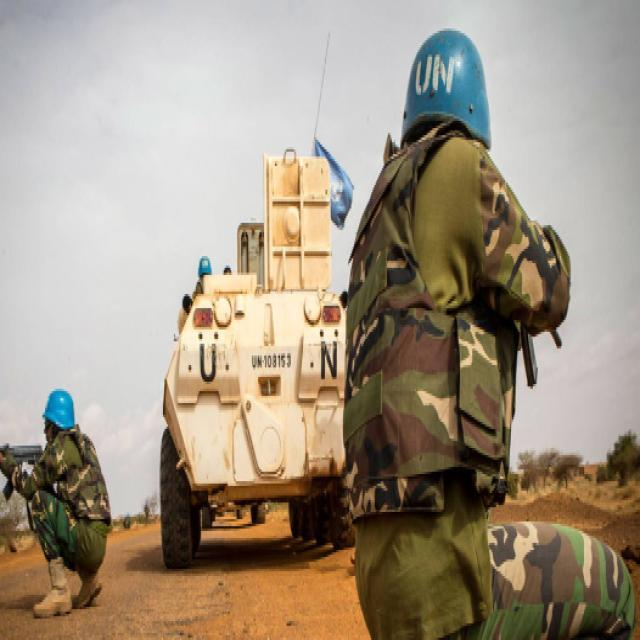hard_hat: (399, 23, 495, 151), (40, 385, 78, 448)
